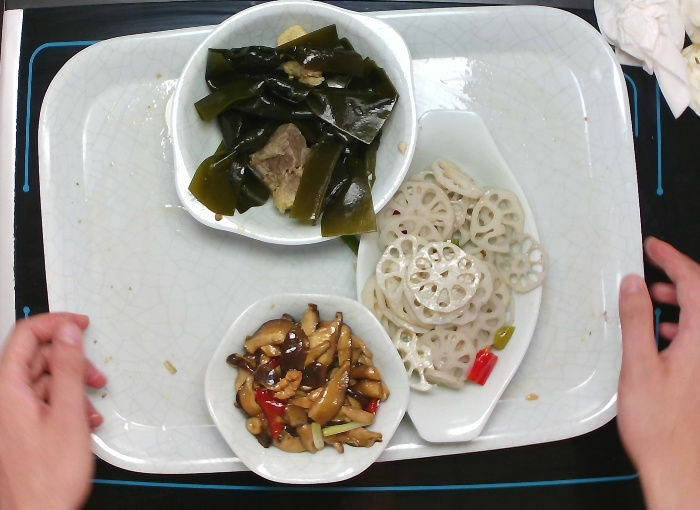JYsf-Shuang_Er_Wan: (169, 1, 422, 248)
JYsf-Yu_Pan: (353, 108, 545, 445)
WCQzf-Hua_Duo_Wan: (200, 290, 412, 487)
